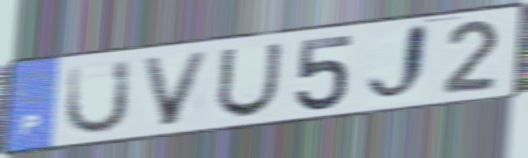2: (441, 17, 503, 97)
5: (291, 32, 356, 113)
J: (363, 19, 433, 107)
U: (212, 40, 286, 120), (61, 57, 134, 138)
V: (138, 49, 215, 129)
